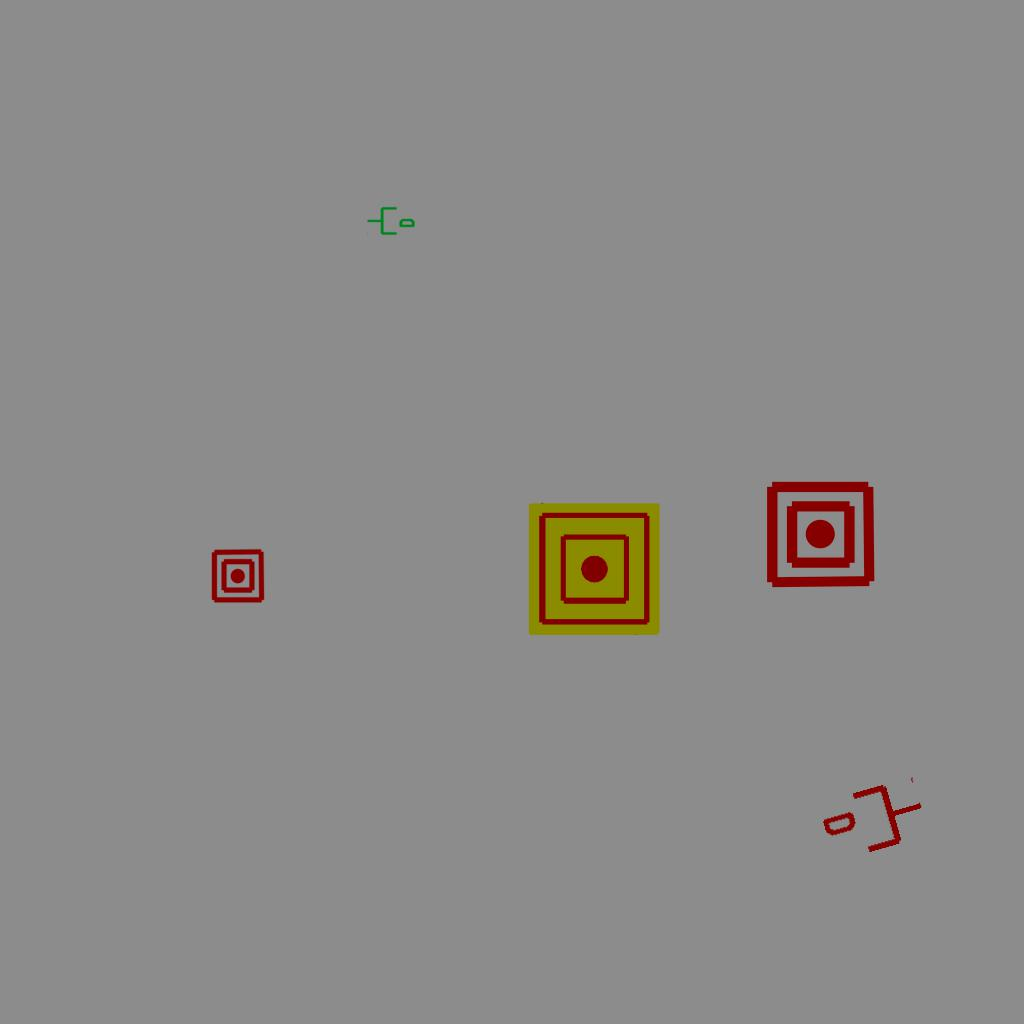Datenanschluss_einfach: (816, 772, 933, 866), (366, 203, 416, 237)
NAM-Nichtautomatischer_Melder: (528, 503, 660, 635), (764, 478, 877, 591), (210, 548, 266, 604)
